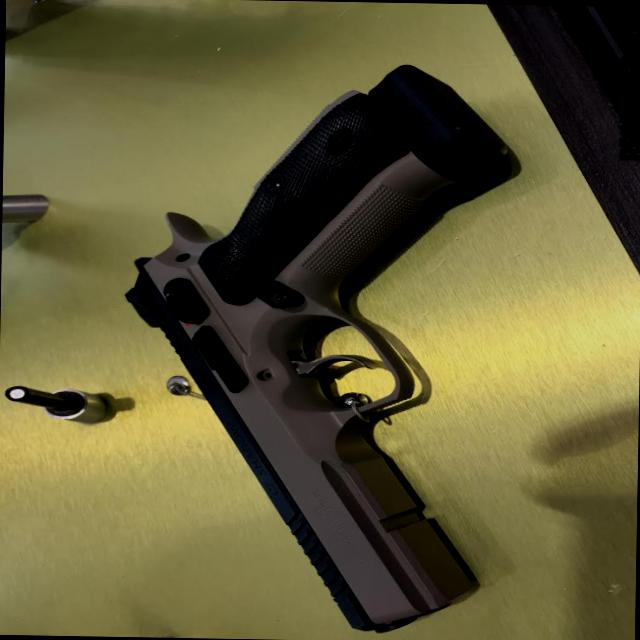handgun: (111, 71, 518, 639)
